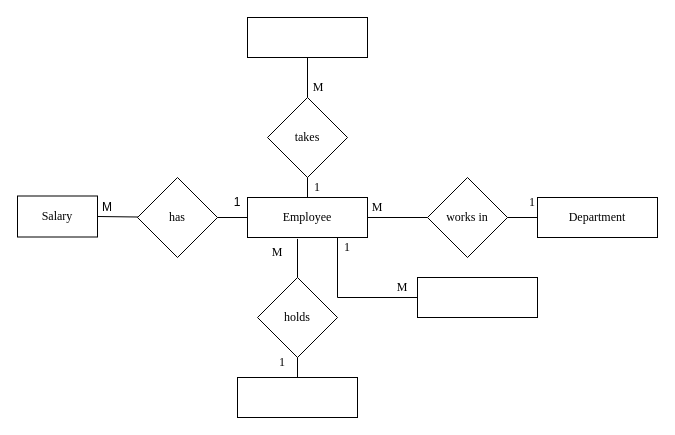
This 675x435 diagram has some shape labels left out. Here are the shapes that lost their labels. From the top down, the centre of each, then its label:
[307,37]: Leave
[477,297]: Project
[297,397]: Job
